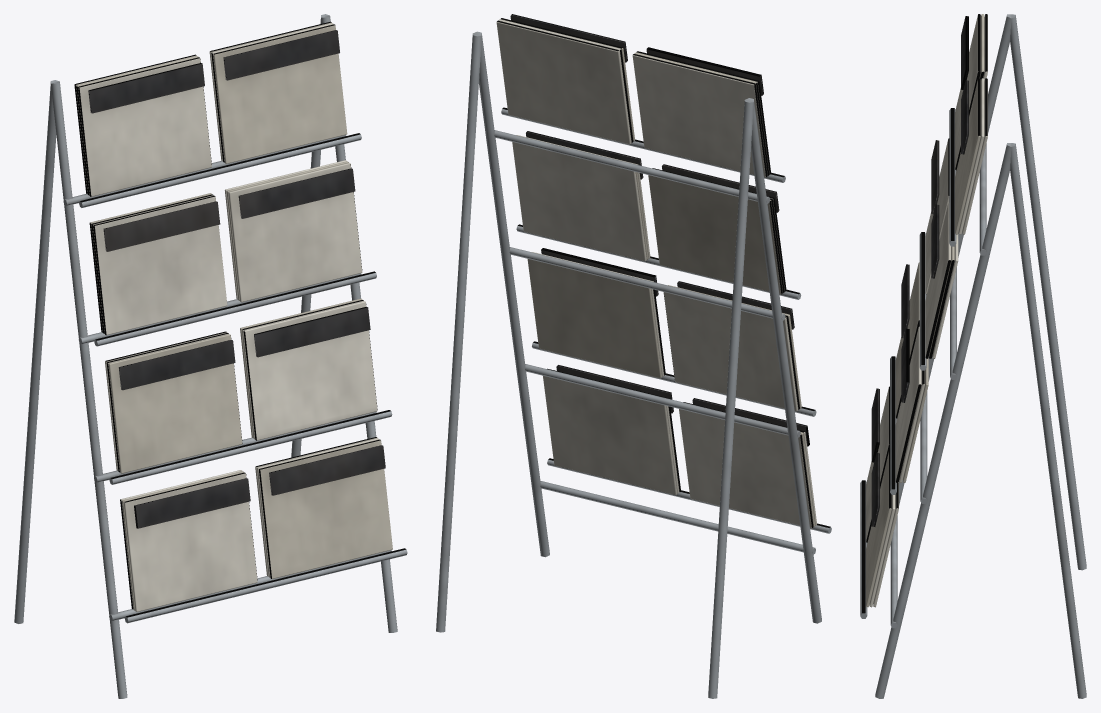
File: sklep_stojak_gazety.glb
3 renders of one model, left to right at view 1: azimuth 30°, elevation 25°; view 2: azimuth 150°, elevation 25°; view 3: azimuth 270°, elevation 25°, orthographic. The views are drawn at different scales.
Visible parts, largest first — view 1: Stojak; view 2: Stojak; view 3: Stojak.
Boxes of the visible parts, <box> form: Stojak: <box>14,14,407,698</box>; Stojak: <box>436,14,831,698</box>; Stojak: <box>860,14,1086,698</box>.
Size of the model in its own units: 0.62 by 1.21 by 0.4466.
1 material, 1 textured.
